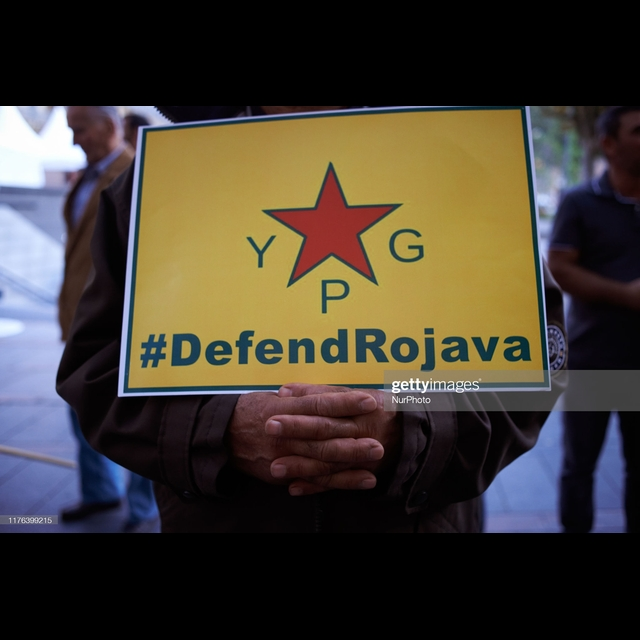YPG: (231, 156, 446, 322)
